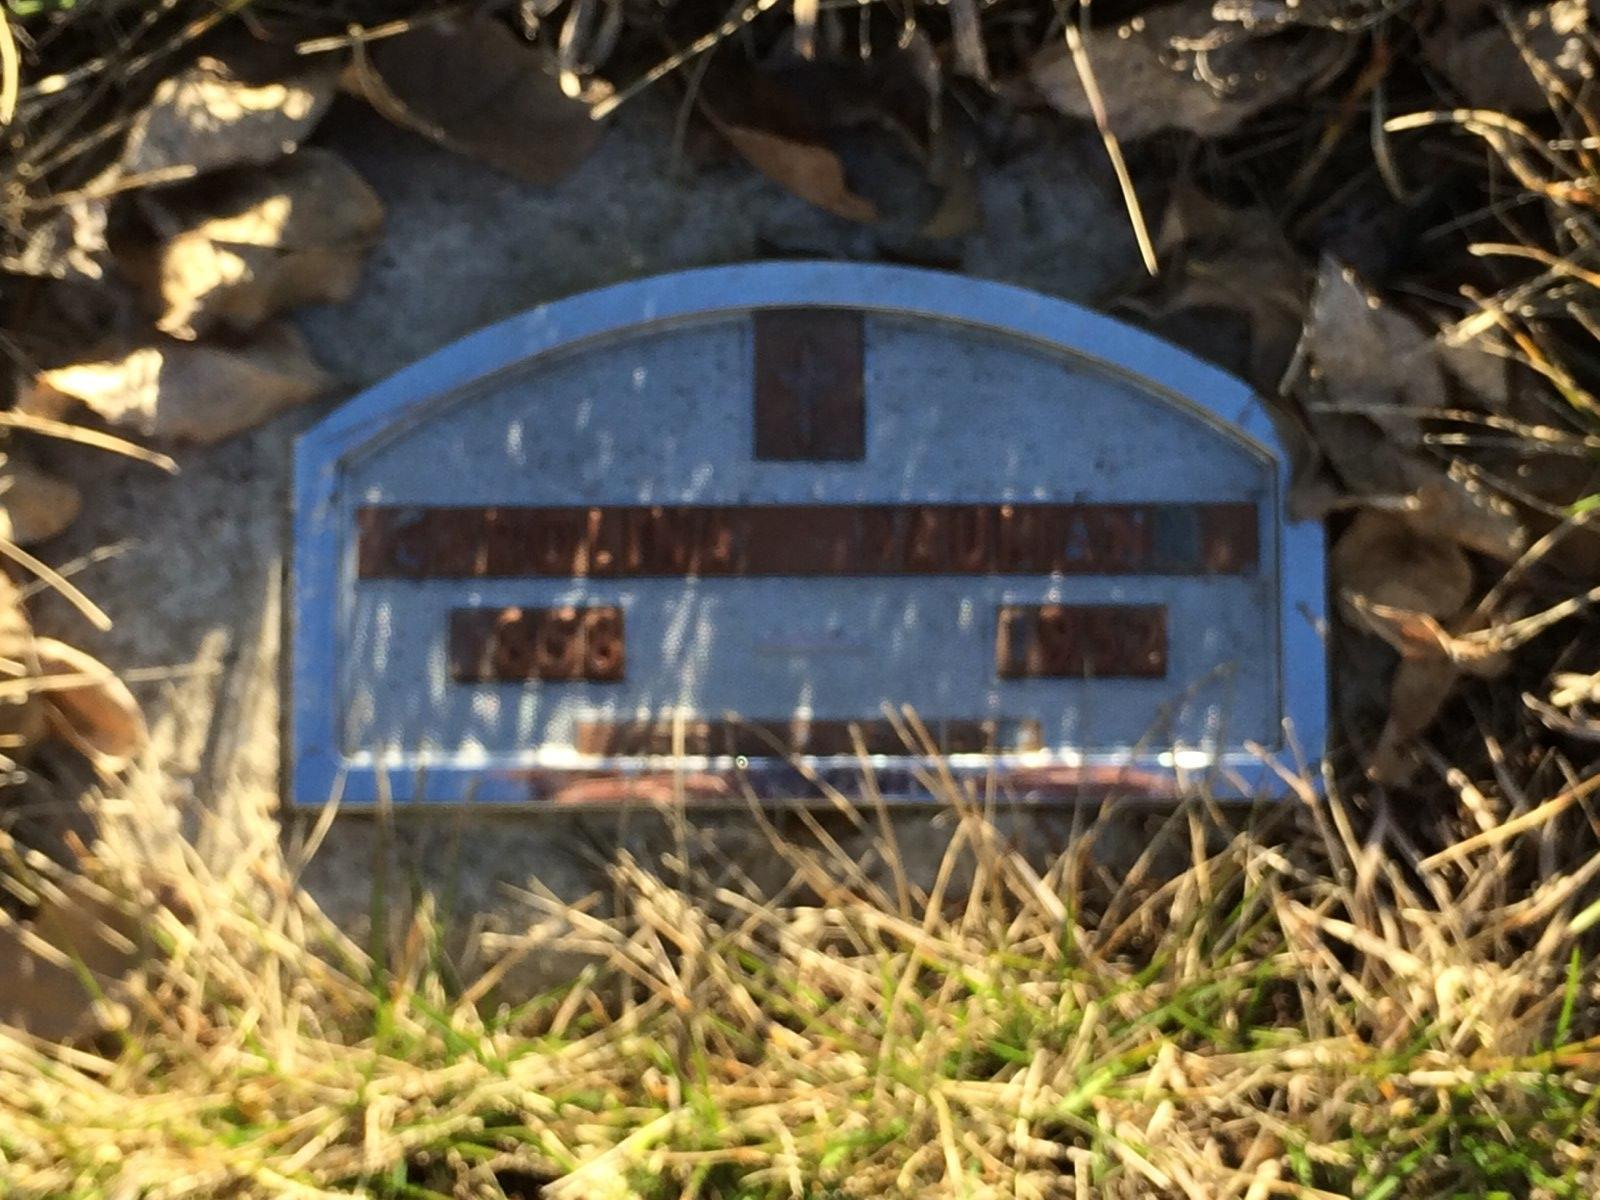flat: (277, 260, 1330, 812)
